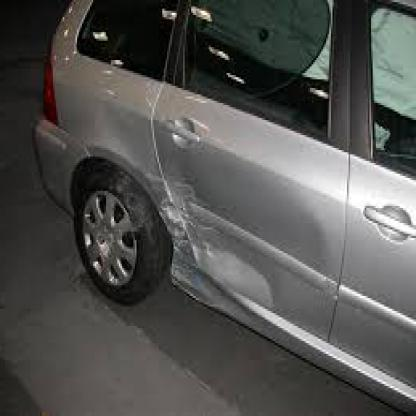dent: (199, 247, 273, 300)
